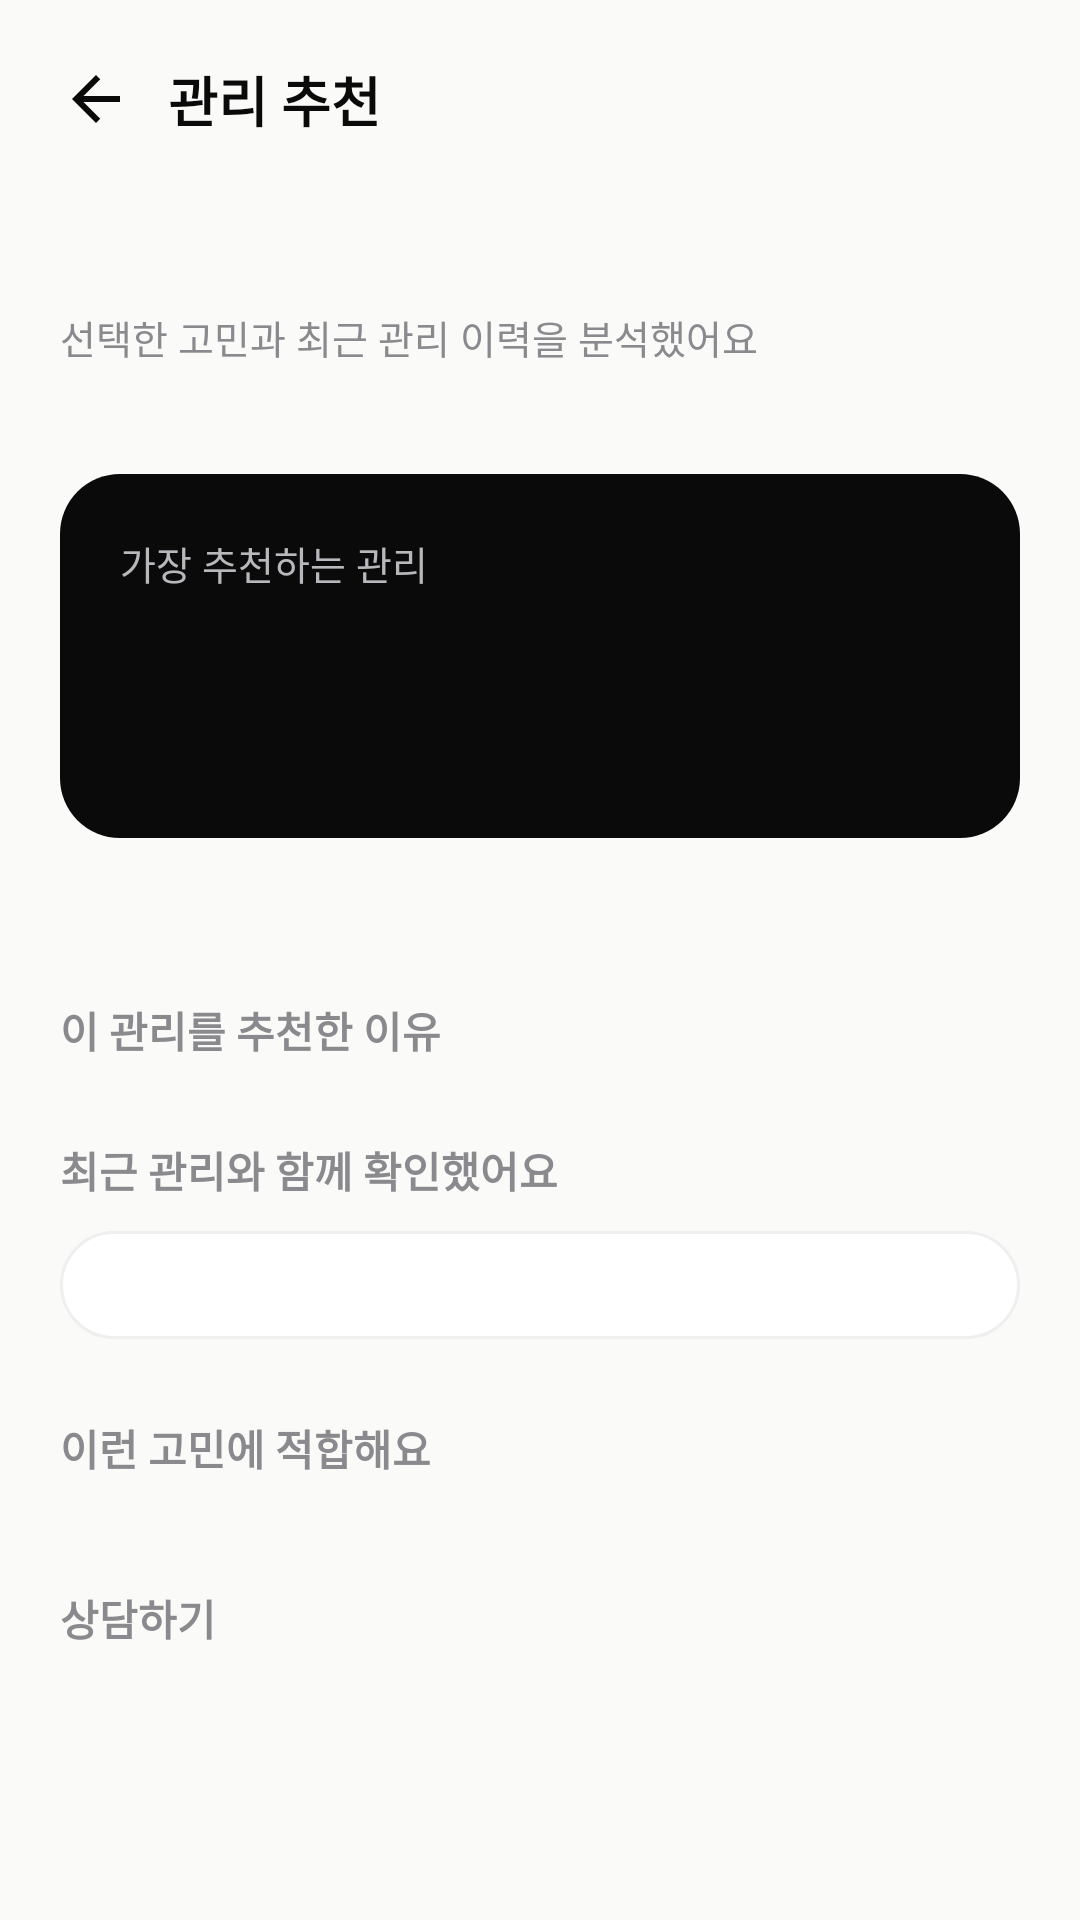

Named icons in this screenshot (1080px×1920px) and their bounding boxes, BBox(x1, y1, x2, y2):
back: BBox(72, 75, 120, 123)
